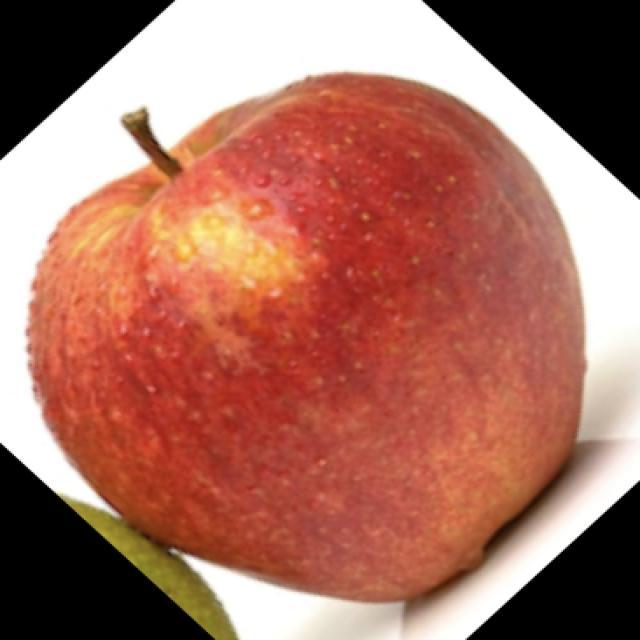Apple: (24, 69, 587, 604)
